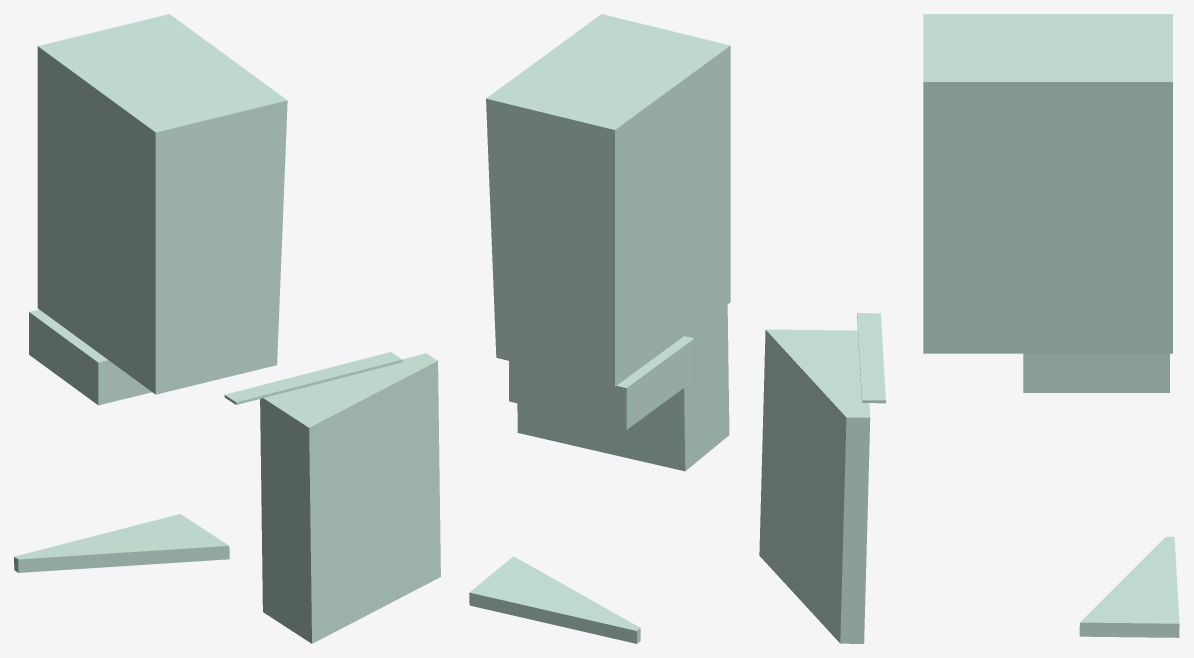
3 renders of one model, left to right at view 1: azimuth 30°, elevation 25°; view 2: azimuth 150°, elevation 25°; view 3: azimuth 270°, elevation 25°, orthographic. The views are drawn at different scales.
Parts seen in each view (by area): view 1: Renderer Node; view 2: Renderer Node; view 3: Renderer Node.
Part boxes in pixels (x1,y1,x2,y2): Renderer Node: (14,14,440,643); Renderer Node: (469,14,730,643); Renderer Node: (759,14,1179,643).
Bounding box in the file's own units: 0.8216 × 1.52 × 1.05.
